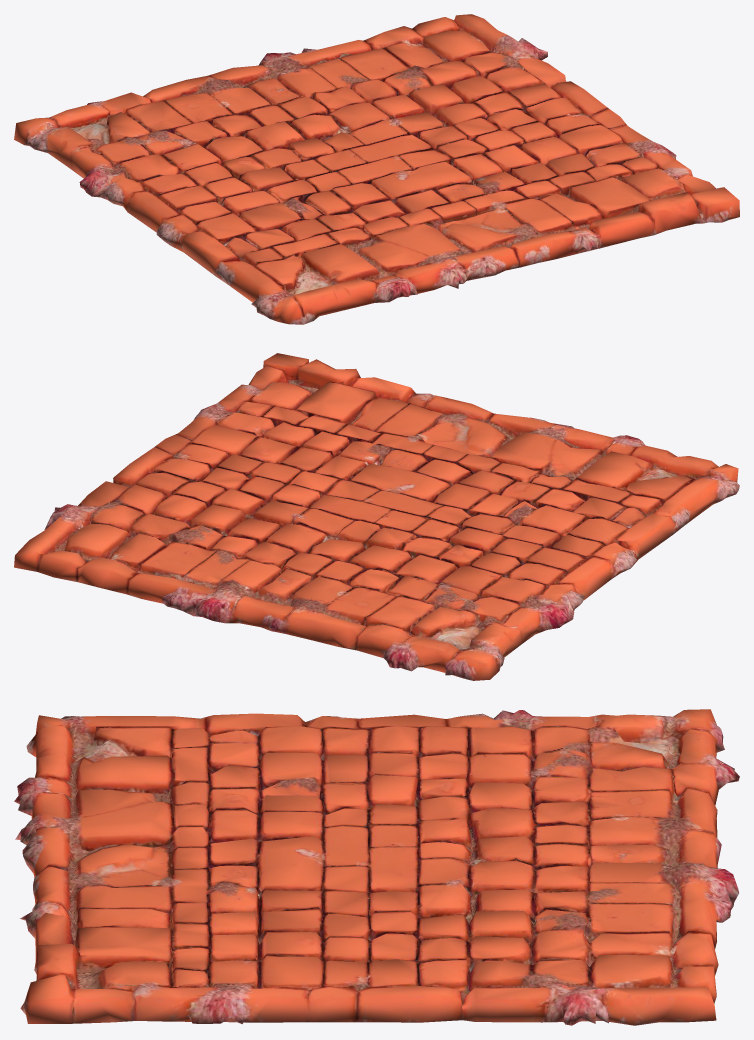
Rendered from brick_road_1115015040_texture_draco.glb.
The picture shows the model from 3 angles, top to bottom: view 1: azimuth 30°, elevation 25°; view 2: azimuth 150°, elevation 25°; view 3: azimuth 270°, elevation 25°; orthographic projection. The views are drawn at different scales.
Visible parts, largest first — view 1: Mesh1.0; view 2: Mesh1.0; view 3: Mesh1.0.
Part boxes in pixels (x1,y1,x2,y2): Mesh1.0: (14,14,739,324); Mesh1.0: (14,353,739,680); Mesh1.0: (14,709,739,1025).
Size of the model in its own units: 1.81 by 0.0848 by 1.8.
Materials: 1 (1 with a texture image).
